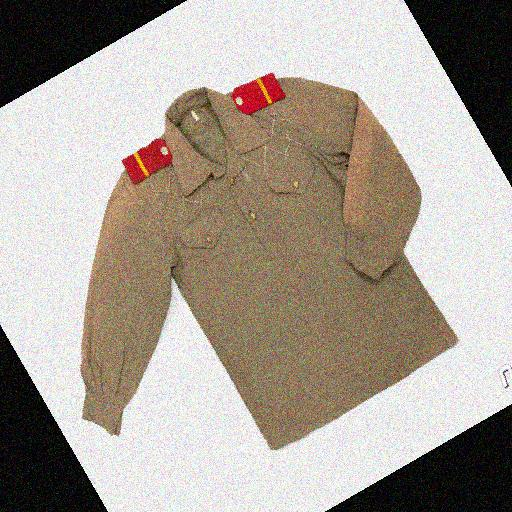north army: (82, 74, 472, 465)
